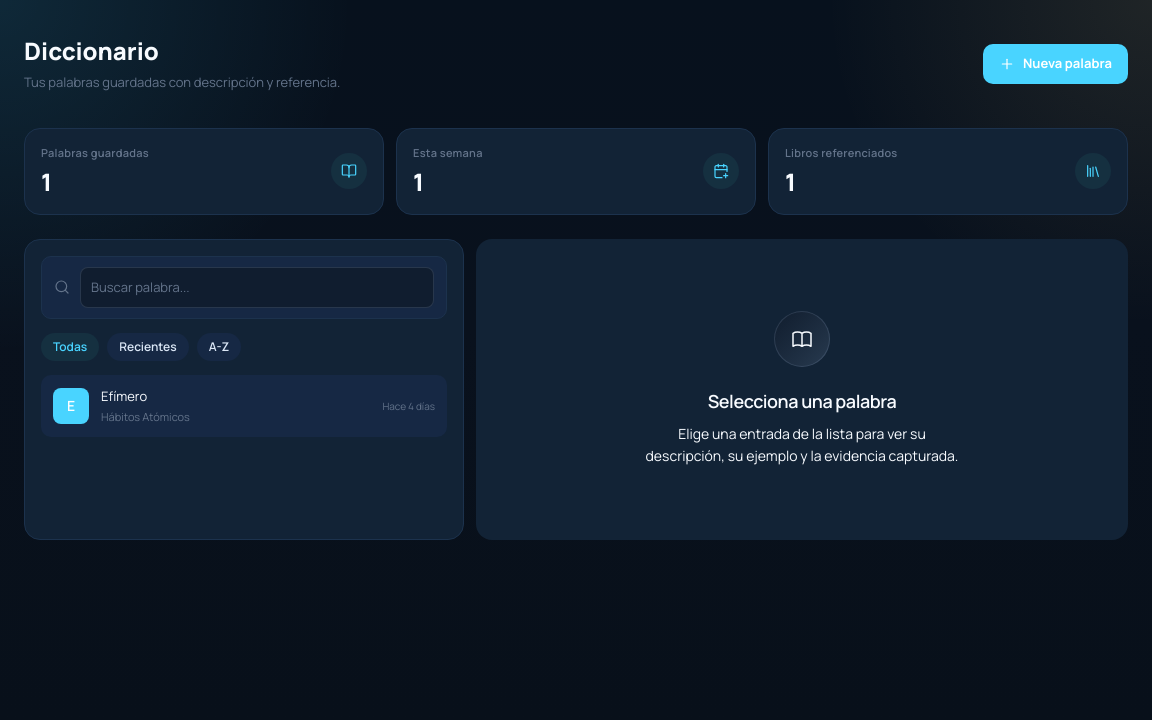
Test: DictionaryView detail panel (4C) › closes the selection through the store when the destructive action is used
The image size is (1152, 720).
Step 1. Click the button with test id "dictionary-row" → (71, 406), box [41, 375, 447, 437]
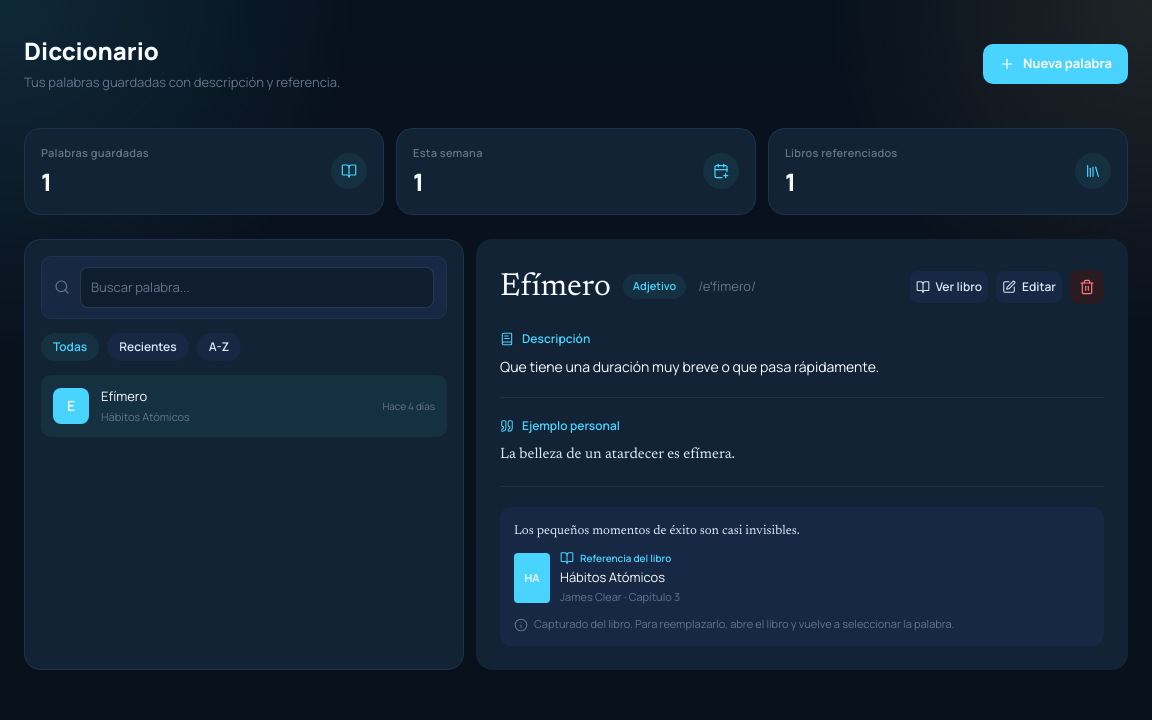
Step 2. Click the button with test id "dictionary-detail-delete" → (1087, 286), box [1070, 270, 1104, 304]
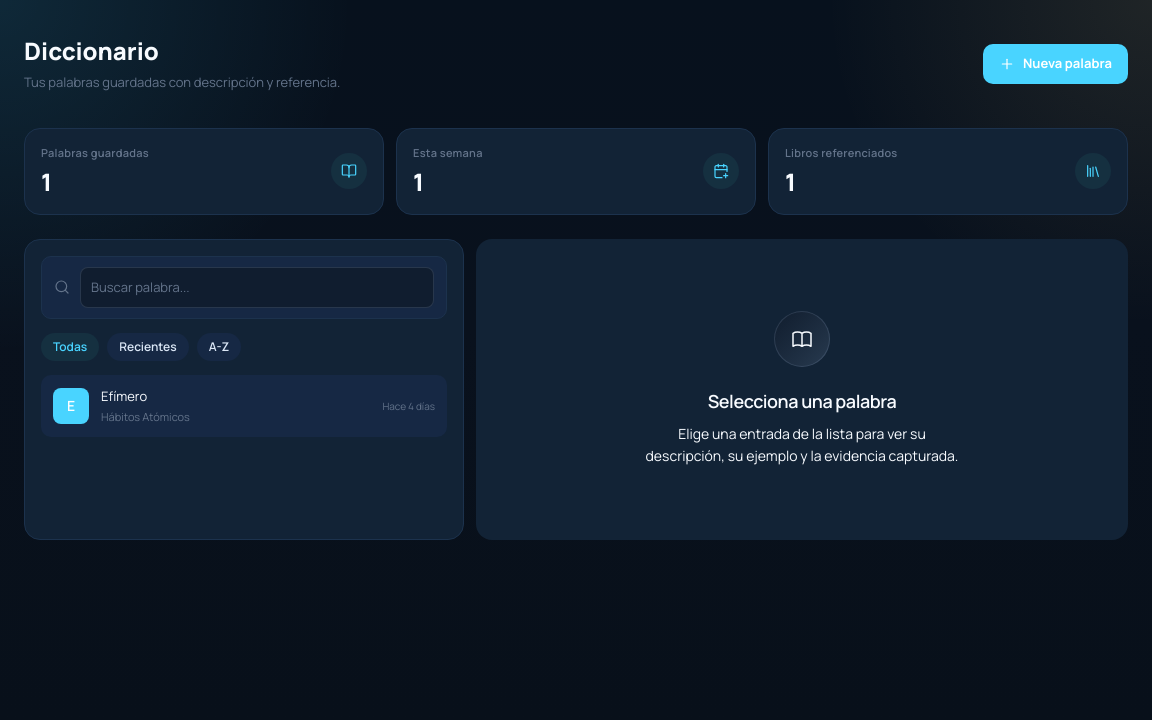
Now the element with test id "dictionary-detail-header" is gone
